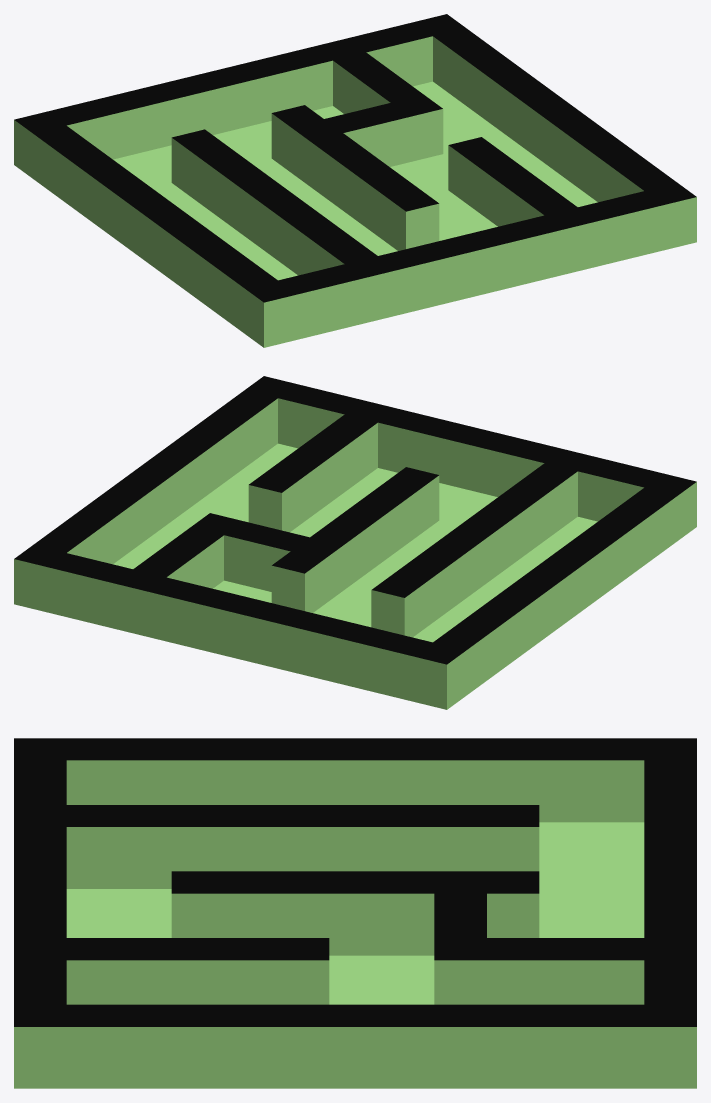
File: Maze1.fbx
3 views of the same model, one above another, from view 1: azimuth 30°, elevation 25°; view 2: azimuth 150°, elevation 25°; view 3: azimuth 270°, elevation 25° (orthographic). The views are drawn at different scales.
Parts seen in each view (by area): view 1: Plane; view 2: Plane; view 3: Plane.
Part boxes in pixels (<box>): Plane: <box>14,14,696,347</box>; Plane: <box>14,376,696,709</box>; Plane: <box>14,738,696,1088</box>.
Size of the model in its own units: 6000 by 600 by 6000.
